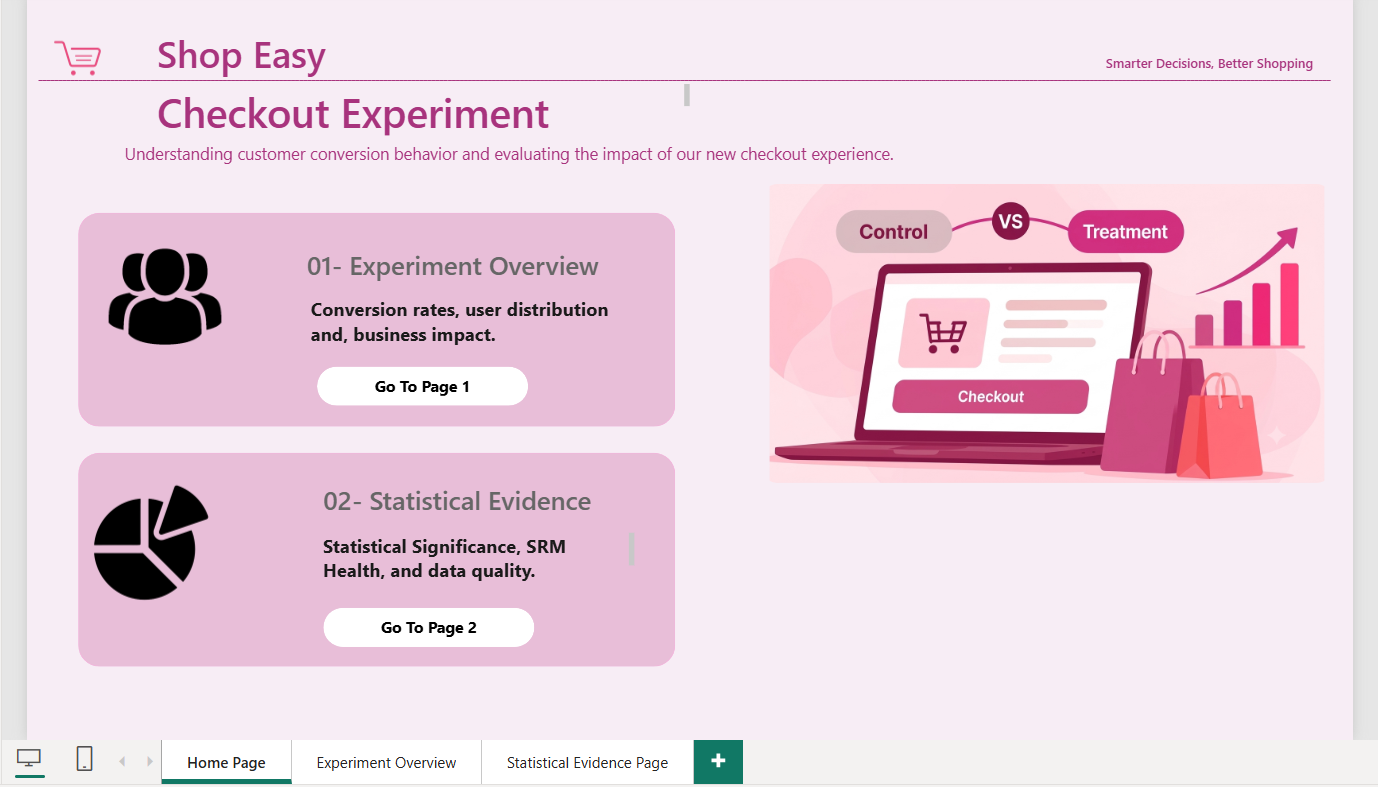

This screenshot's page, from the dashboard's own definition file:
{"tool":"powerbi","page":{"name":"Home Page","canvas":[1920,1080],"ordinal":0},"visuals":[{"type":"image","box":[17.1,57,113.1,73.5],"z":0},{"type":"shape","box":[74.2,316.7,864.3,309.6],"z":2000},{"type":"textbox","box":[323.9,367.4,585,70.3],"z":3000},{"type":"textbox","box":[188,49.4,271.6,91.2],"z":4000},{"type":"textbox","box":[410.8,437.9,469.2,85.5],"z":5000},{"type":"textbox","box":[188,131.1,771.2,74.1],"z":6000},{"type":"textbox","box":[140.6,214.6,1185.3,43.7],"z":7000},{"type":"textbox","box":[17.1,108.3,1872.9,32.3],"z":8000},{"type":"textbox","box":[1561.4,87.4,328.6,43.7],"z":14000},{"type":"actionButton","box":[419.8,539.3,305.8,57],"z":15000},{"type":"shape","box":[74.2,664.1,864.3,309.6],"z":16000},{"type":"textbox","box":[428.9,707.6,452.1,72.2],"z":17000},{"type":"textbox","box":[428.9,780,450.2,70.3],"z":18000},{"type":"actionButton","box":[428.9,888.5,305.8,57],"z":19000},{"type":"image","box":[1062.3,275.1,828.8,432.5],"z":20000},{"type":"image","box":[74.2,356.5,250.7,163.4],"z":21000},{"type":"image","box":[74.2,707.6,202.7,181],"z":22000}]}

Visuals, with their boxes on the page's 1920x1080 design canvas (x1, y1, x2, y2). These are canvas units, not pixel positions in the 1378x787 screenshot, which may show the page scaled, cropped or inside an application window:
image: [17,57,130,130]
shape: [74,317,938,626]
textbox: [324,367,909,438]
textbox: [188,49,460,141]
textbox: [411,438,880,523]
textbox: [188,131,959,205]
textbox: [141,215,1326,258]
textbox: [17,108,1890,141]
textbox: [1561,87,1890,131]
actionButton: [420,539,726,596]
shape: [74,664,938,974]
textbox: [429,708,881,780]
textbox: [429,780,879,850]
actionButton: [429,888,735,946]
image: [1062,275,1891,708]
image: [74,356,325,520]
image: [74,708,277,889]
